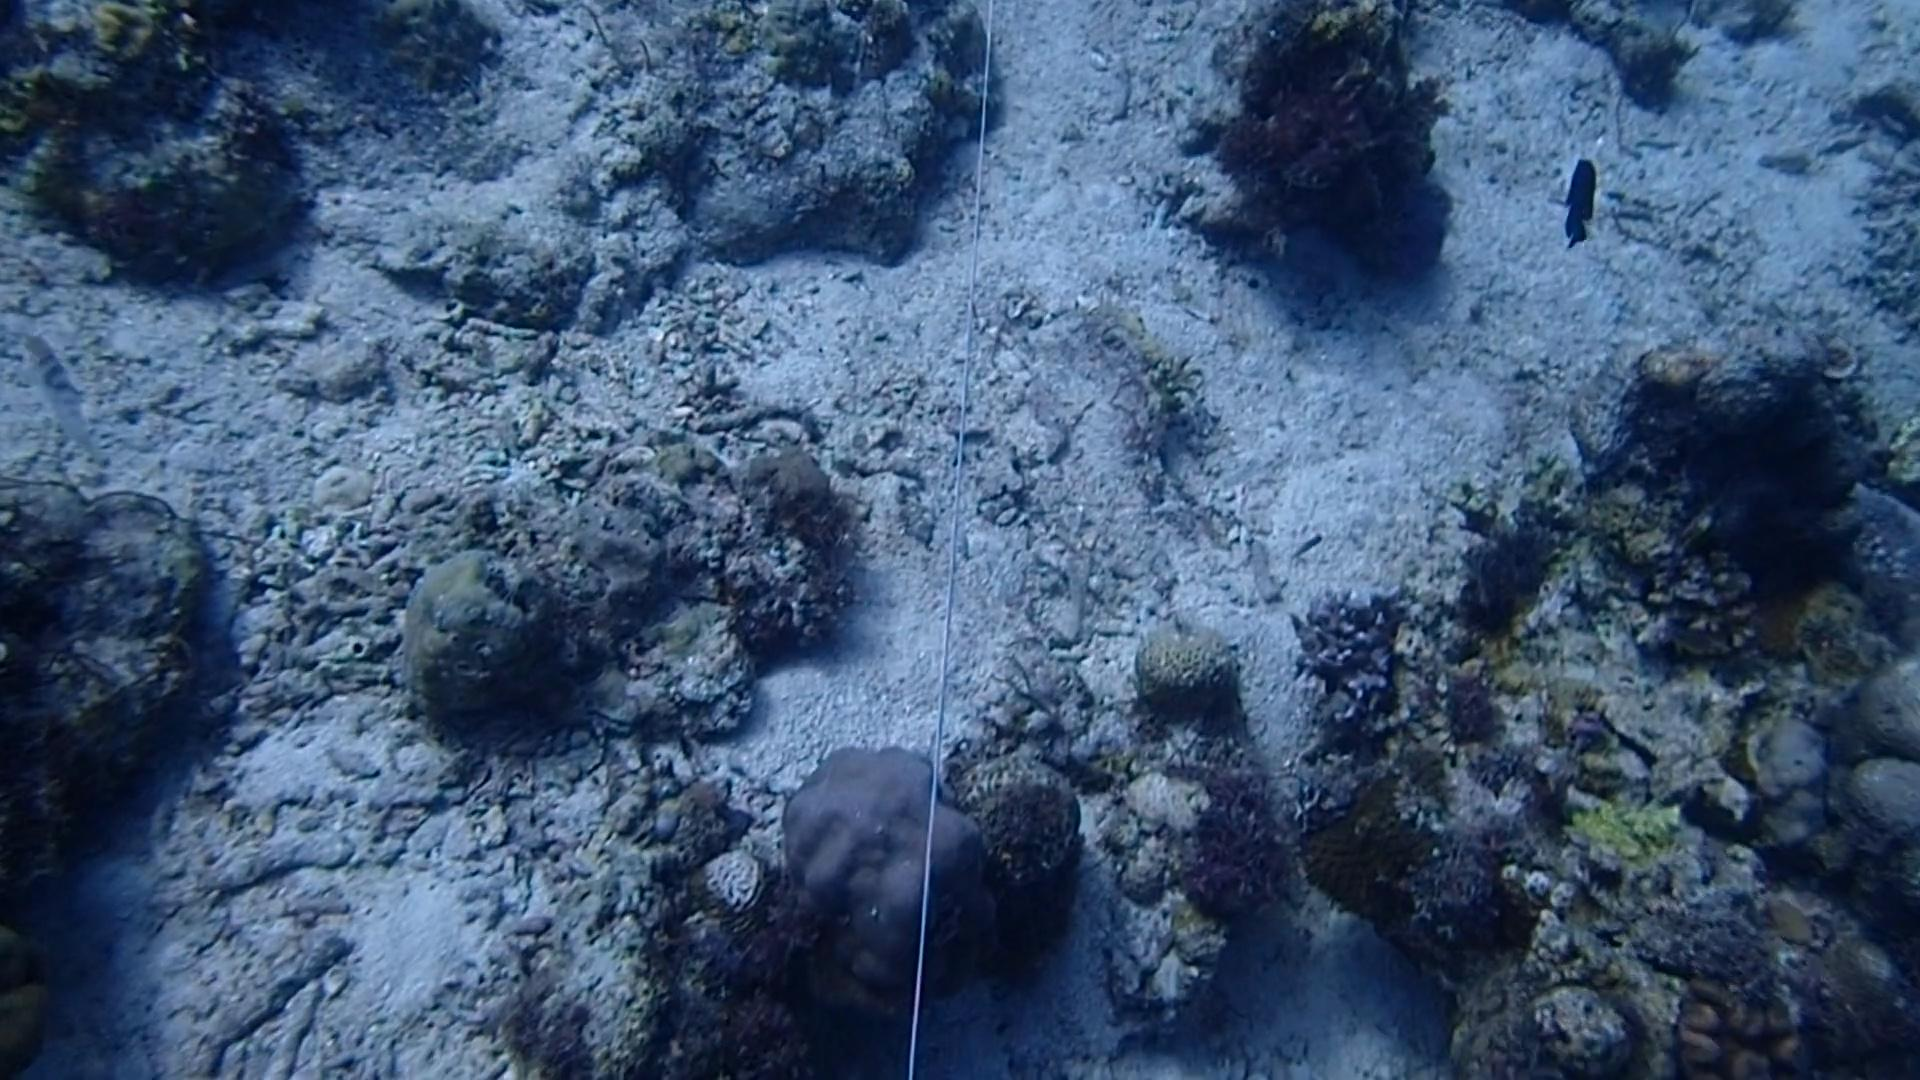Dark Fish: (1549, 145, 1617, 257)
Light Fish w Back Stripes: (24, 324, 108, 472)
